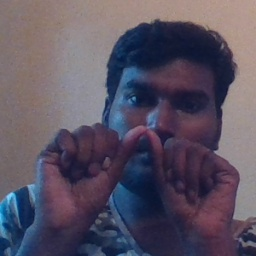A: (65, 122, 209, 214)
